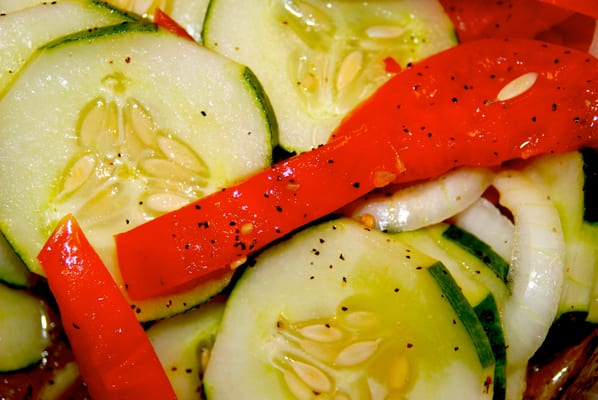pizza: (108, 33, 598, 331), (37, 214, 178, 398)
